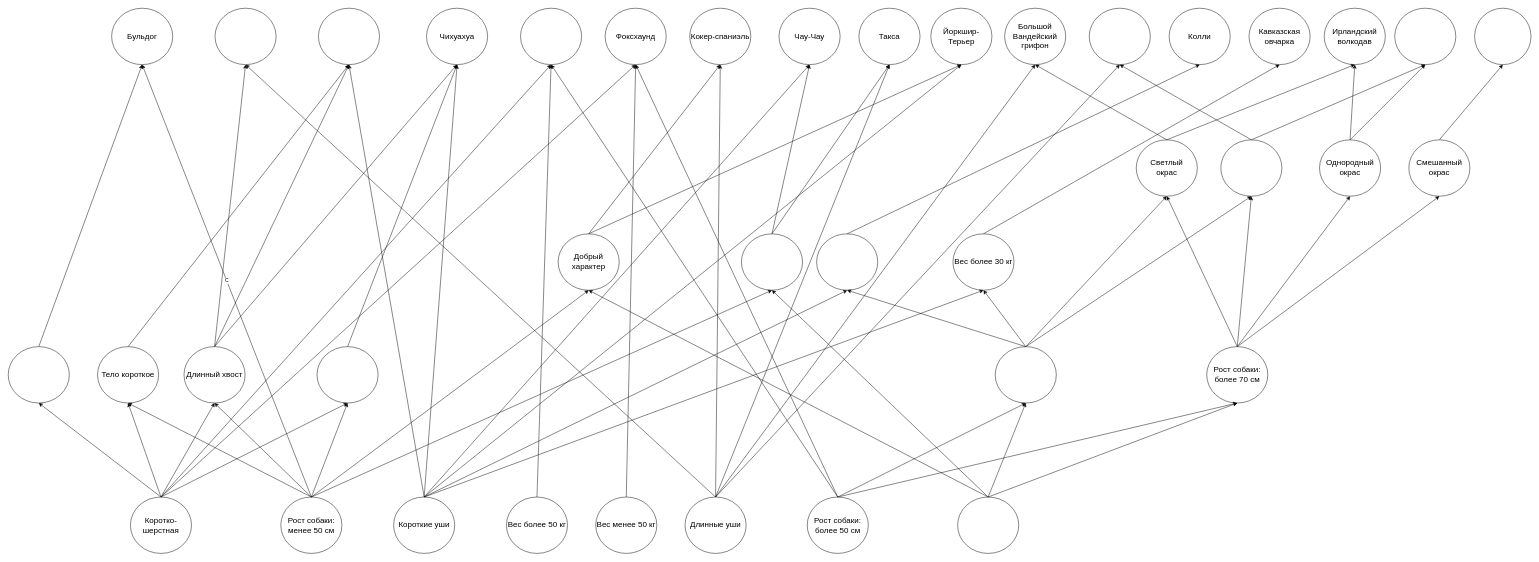
This 1539x562 diagram has some shape labels left out. Each missing label, with the centre of its shape:
"Вес менее 30 кг" goes at point 847,261.
"Гончая" goes at point 245,36.
"Датский дог" goes at point 551,36.
"Длинно-шерстная" goes at point 988,525.
"Ирландский сеттер" goes at point 1119,36.
"Короткий хвост" goes at point 38,374.
"Мопс" goes at point 349,36.
"Ньюфаундленд" goes at point 1425,36.
"Рост собаки: менее 70 см" goes at point 1025,374.
"Своенравный характер" goes at point 772,261.
"Сенбернар" goes at point 1502,36.
"Тело длинное" goes at point 347,374.
"Тёмный окрас" goes at point 1251,167.
